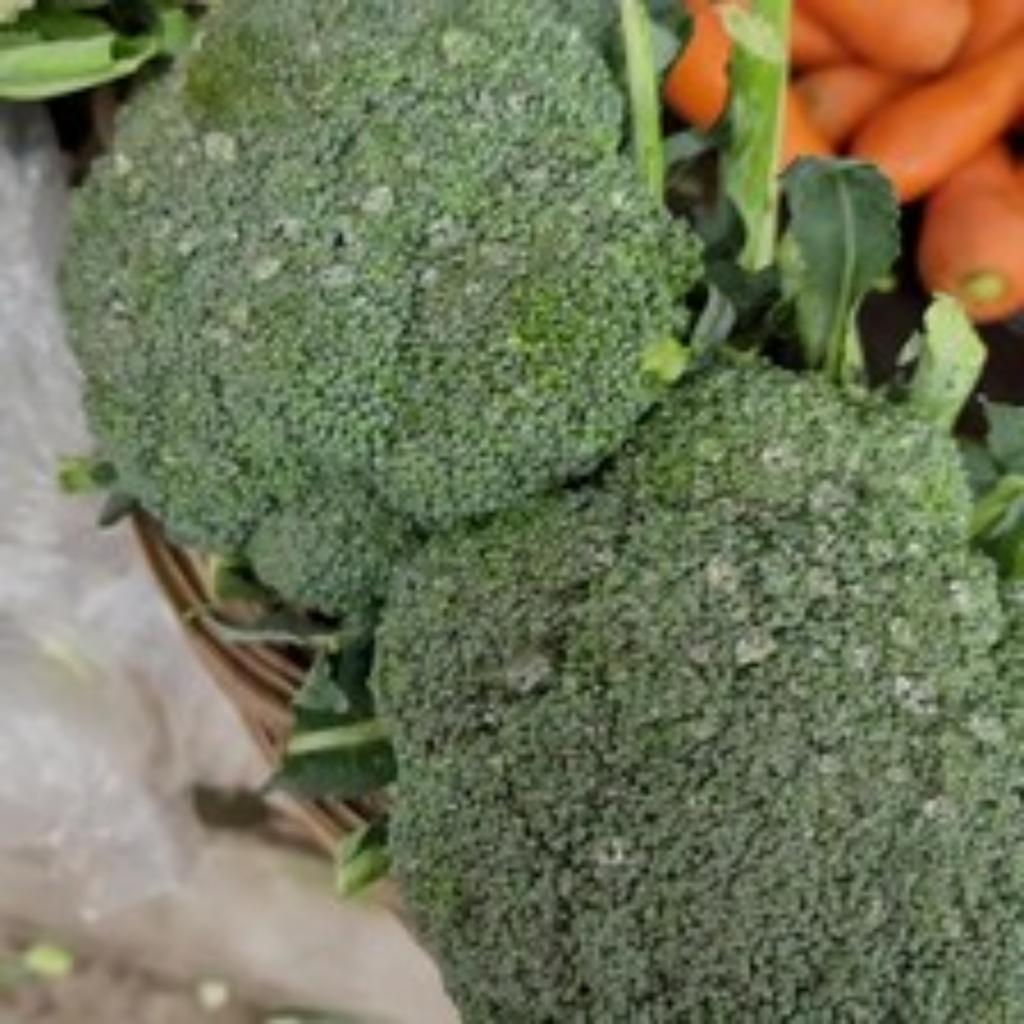Broccoli: (376, 364, 1024, 1024), (376, 366, 1024, 1024), (66, 0, 698, 613), (66, 2, 700, 613)
